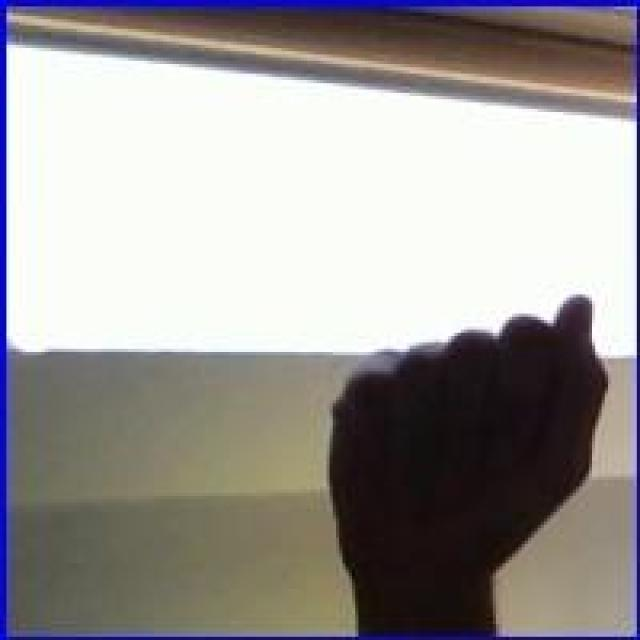A: (323, 290, 611, 578)
